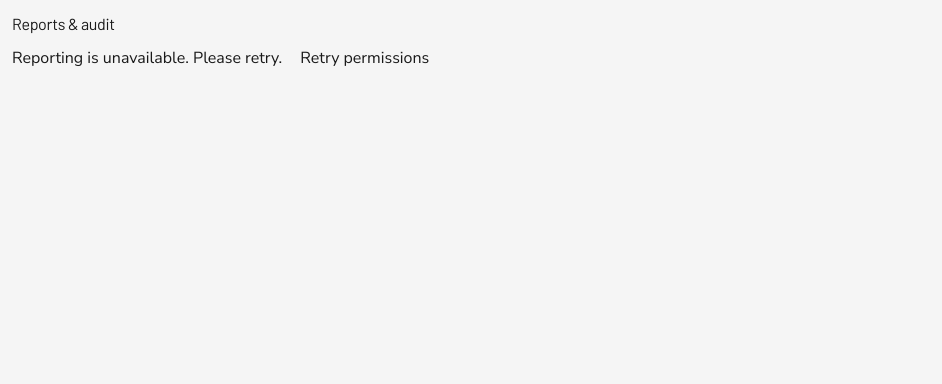
failed permissions request can be retried without broadening access
Expected: the message "Reporting is unavailable. Please retry. Retry permissions" is shown, [12,36,443,80]
Click the button "Retry permissions".
click(365, 58)  # box [286,36,443,80]
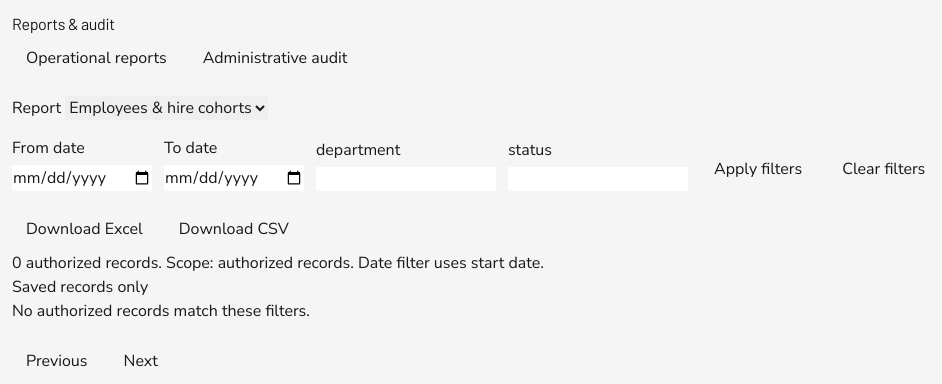
Expected: the text "Operational reports" is shown, [12,36,181,80]
